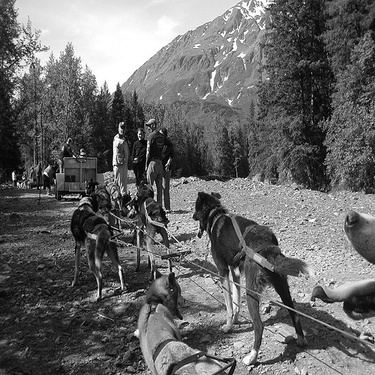dog: (189, 183, 311, 367), (127, 247, 230, 370), (311, 204, 369, 324), (63, 192, 127, 299), (122, 189, 172, 277), (114, 166, 157, 212), (92, 181, 111, 214), (105, 179, 122, 213), (80, 176, 98, 198), (120, 188, 132, 211)
